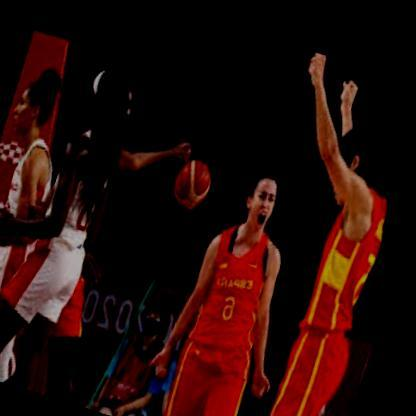basketball: (172, 154, 219, 213)
